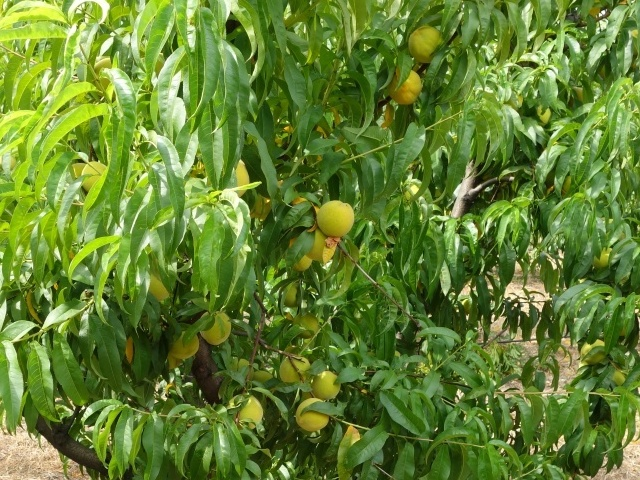peach: (404, 18, 446, 65), (314, 198, 357, 243), (293, 394, 336, 433), (387, 65, 425, 108), (224, 391, 265, 429), (301, 219, 338, 261), (275, 348, 313, 386), (195, 309, 233, 346), (163, 326, 202, 362), (311, 367, 344, 404), (577, 334, 610, 368), (77, 155, 108, 191), (288, 311, 322, 339), (280, 284, 304, 313)
